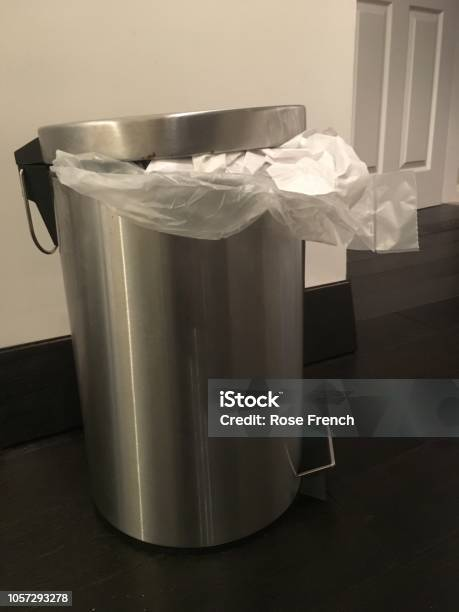bin_empty: (18, 105, 416, 546)
